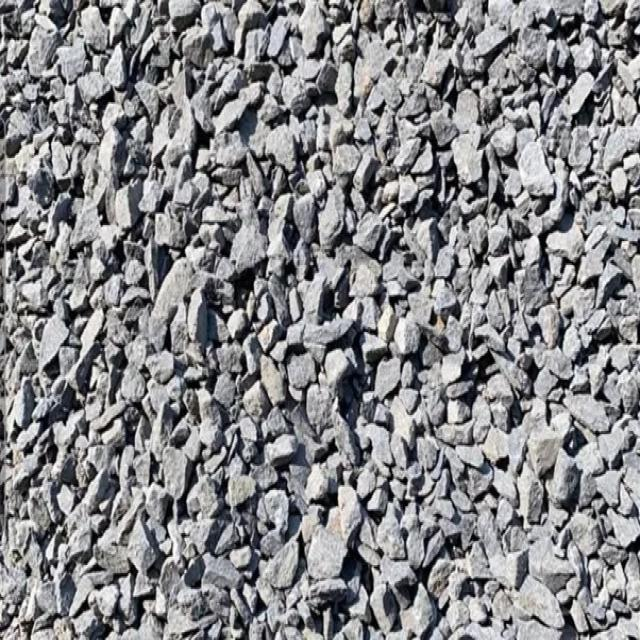Pecahan Agregat: (518, 137, 574, 214), (515, 571, 578, 630), (78, 2, 128, 62), (74, 552, 122, 614), (212, 377, 264, 430), (264, 196, 299, 273), (179, 278, 218, 346), (120, 522, 164, 582), (389, 401, 436, 454), (168, 27, 223, 72), (308, 520, 352, 576), (24, 12, 59, 82), (520, 472, 556, 540), (563, 382, 605, 440), (261, 538, 302, 597), (34, 314, 69, 382), (226, 204, 261, 272), (155, 442, 189, 508), (319, 344, 362, 394), (265, 119, 301, 178), (313, 190, 347, 252), (347, 147, 389, 197), (532, 296, 572, 348), (456, 441, 496, 492), (411, 579, 449, 632), (454, 132, 493, 183), (25, 467, 66, 515), (600, 121, 630, 181), (77, 472, 114, 520), (546, 228, 590, 268), (500, 33, 537, 80), (16, 554, 54, 599), (225, 468, 260, 516), (399, 115, 426, 177), (383, 514, 419, 560), (97, 122, 126, 177), (253, 316, 286, 364), (474, 372, 510, 416), (156, 92, 187, 142), (598, 312, 629, 362), (442, 51, 478, 94), (430, 272, 462, 320), (218, 100, 248, 151), (457, 515, 496, 553), (163, 163, 198, 205), (264, 432, 310, 463), (79, 296, 110, 342), (86, 361, 117, 405), (352, 65, 382, 110), (351, 591, 385, 630), (390, 314, 421, 356), (78, 68, 115, 103), (478, 281, 504, 330), (215, 556, 245, 598), (92, 221, 124, 260), (176, 524, 204, 567), (122, 361, 149, 405), (42, 134, 72, 171), (562, 62, 590, 101), (394, 39, 425, 74), (279, 48, 301, 97), (354, 20, 386, 49), (139, 264, 159, 310), (317, 59, 339, 100), (303, 7, 328, 34)
